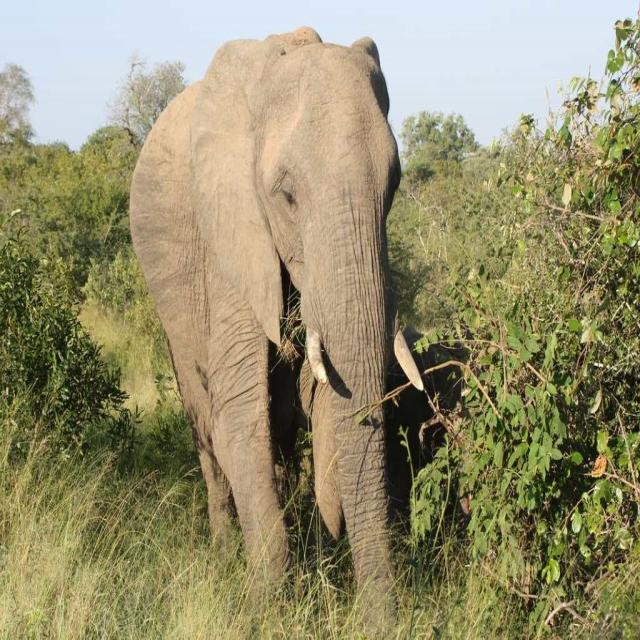elephant: (116, 16, 432, 622)
